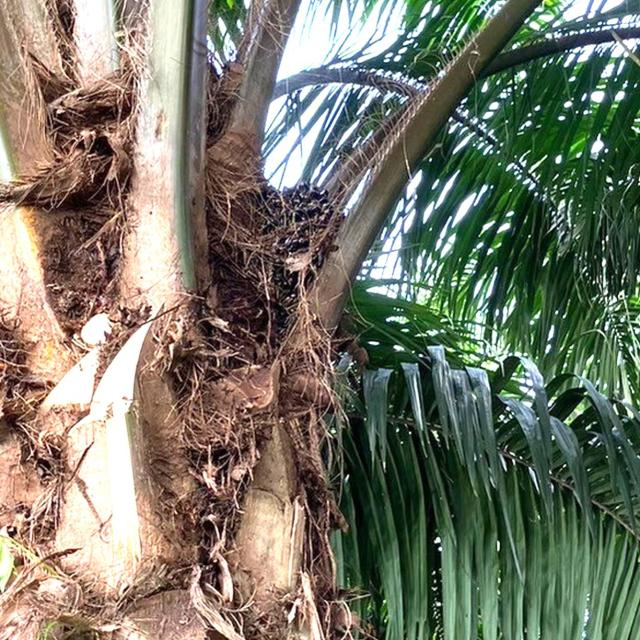unripe: (242, 172, 350, 288)
